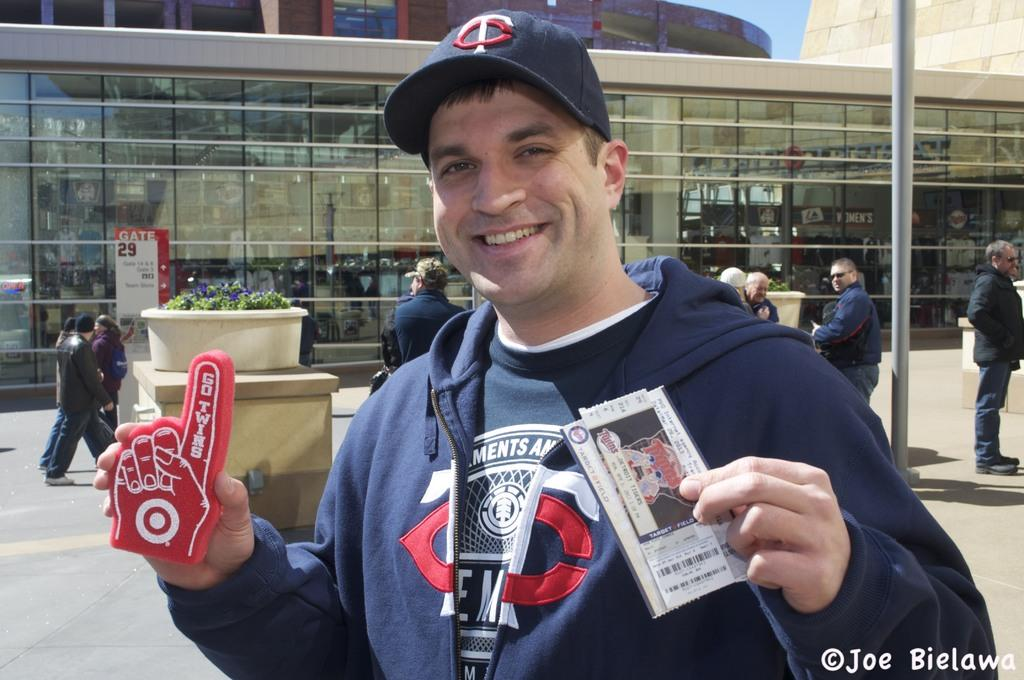Hat: (382, 6, 614, 144), (404, 255, 450, 284)
